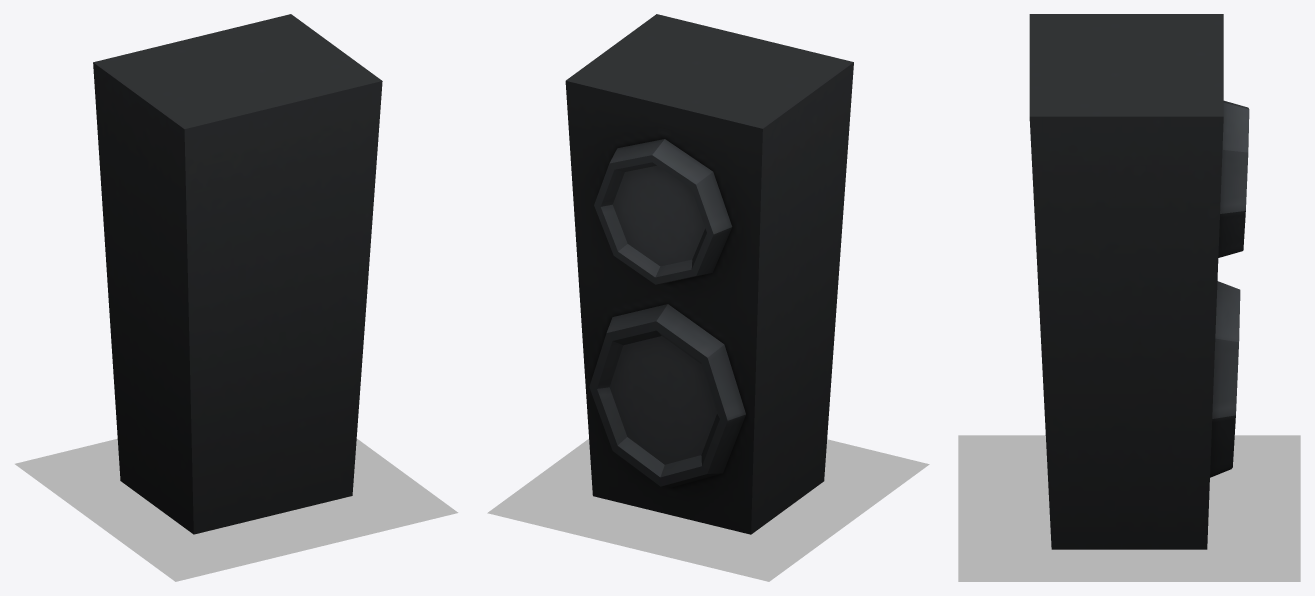
The model's file is 1x1_speaker.FBX.
3 renders of one model, left to right at view 1: azimuth 30°, elevation 25°; view 2: azimuth 150°, elevation 25°; view 3: azimuth 270°, elevation 25°, orthographic. The views are drawn at different scales.
Parts seen in each view (by area): view 1: 1x1_speaker, 1x1_speaker_soft_shadow; view 2: 1x1_speaker, 1x1_speaker_soft_shadow; view 3: 1x1_speaker, 1x1_speaker_soft_shadow.
Boxes of the visible parts, x1,y1,x2,y2 form: 1x1_speaker: (93,14,382,534); 1x1_speaker_soft_shadow: (15,438,458,581); 1x1_speaker: (565,14,853,534); 1x1_speaker_soft_shadow: (487,439,929,581); 1x1_speaker: (1029,14,1249,549); 1x1_speaker_soft_shadow: (958,435,1300,581).
Size of the model in its own units: 1072 by 1524 by 1058.
